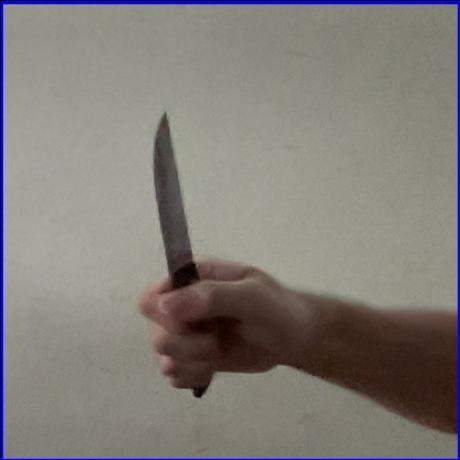1: (135, 256, 457, 438)
weapon: (150, 110, 213, 398)
